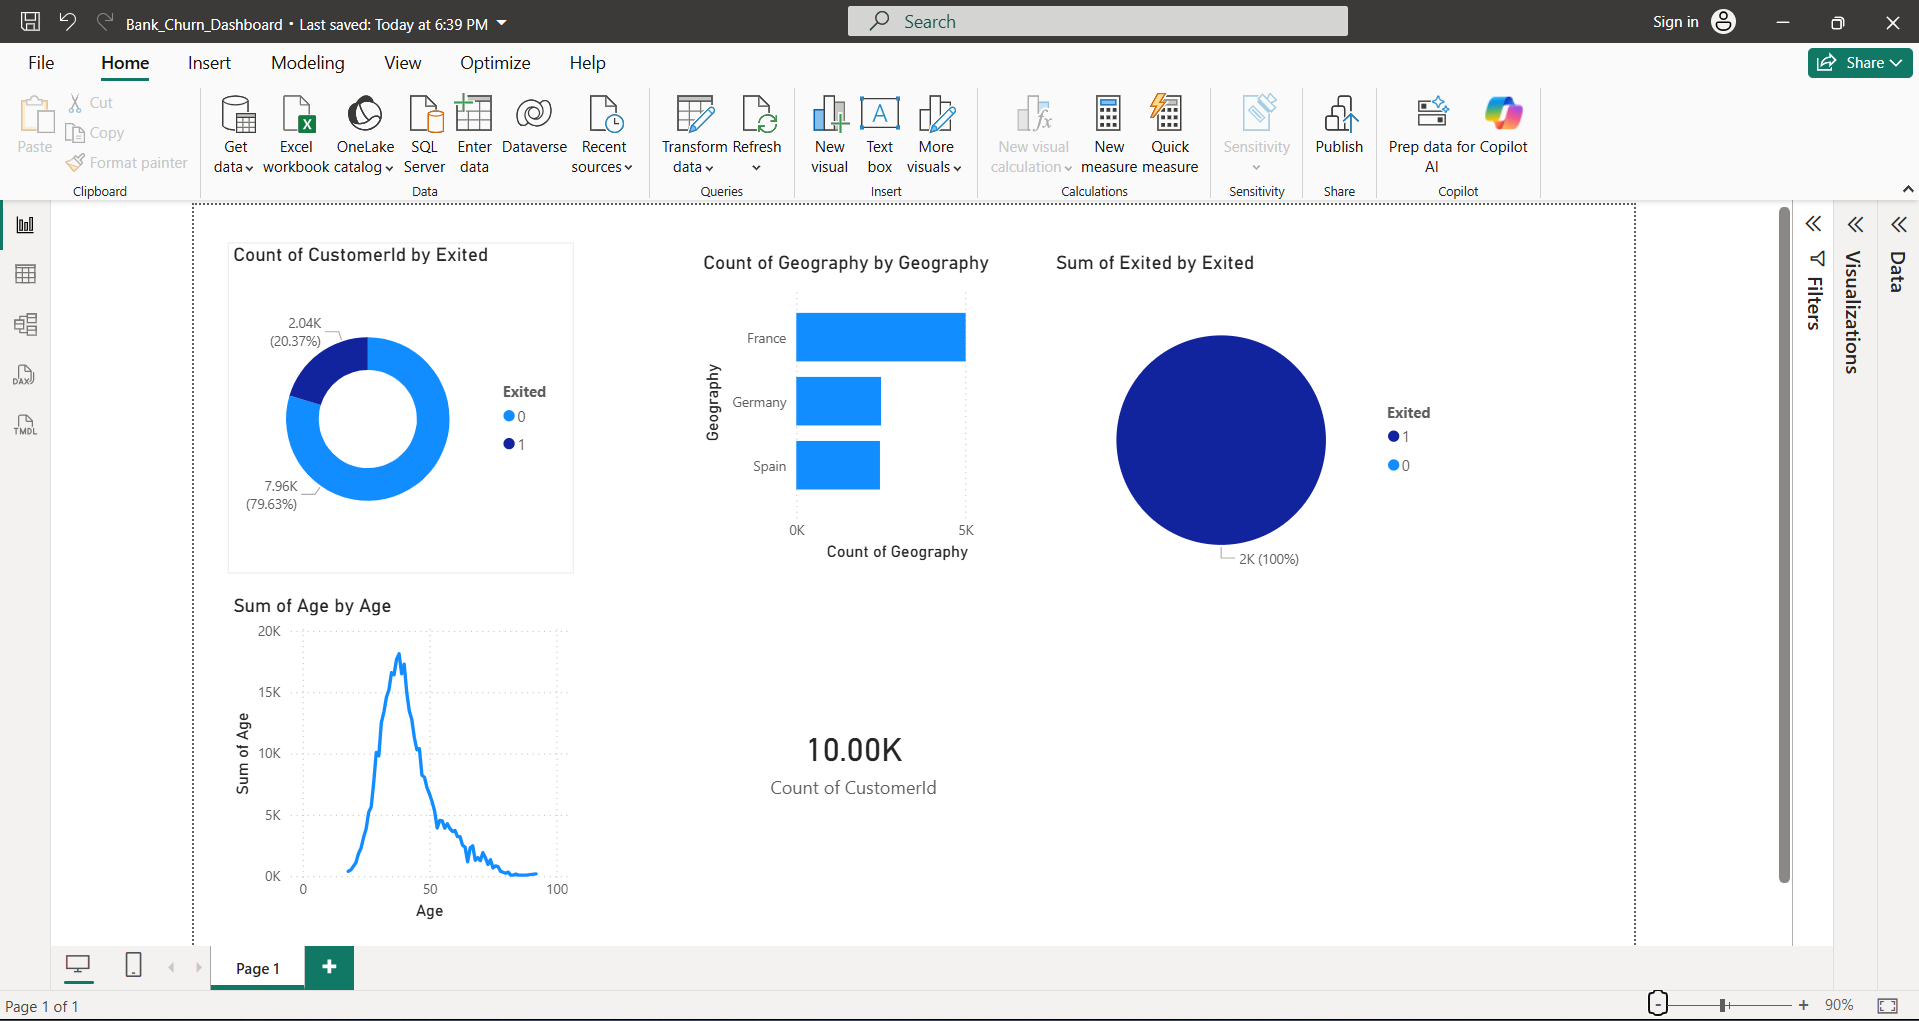

Layout of this report page (visuals, bound fields, positions):
{"tool":"powerbi","page":{"name":"Page 1","canvas":[1280,720],"ordinal":0},"visuals":[{"type":"barChart","fields":{"Category":["Churn_Modelling.Geography"],"Y":["CountNonNull(Churn_Modelling.Geography)"]},"box":[447.3,41.2,279.9,279.9],"z":0},{"type":"pieChart","fields":{"Category":["Churn_Modelling.Exited"],"Y":["Sum(Churn_Modelling.Exited)"]},"box":[761.6,41.2,362.3,317],"z":1000},{"type":"donutChart","fields":{"Category":["Churn_Modelling.Exited"],"Y":["CountNonNull(Churn_Modelling.CustomerId)"]},"box":[30.2,32.9,307.4,295],"z":2000},{"type":"lineChart","fields":{"Category":["Churn_Modelling.Age"],"Y":["Sum(Churn_Modelling.Age)"]},"box":[30.2,345.8,307.4,295],"z":2001},{"type":"card","fields":{"Values":["Count(Churn_Modelling.CustomerId)"]},"box":[447,346,280,295],"z":2002}]}

Visuals, with their boxes on the page's 1280x720 design canvas (x1, y1, x2, y2). These are canvas units, not pixel positions in the 1919x1021 screenshot, which may show the page scaled, cropped or inside an application window:
barChart - Churn_Modelling.Geography x CountNonNull(Churn_Modelling.Geography): locate(447, 41, 727, 321)
pieChart - Churn_Modelling.Exited x Sum(Churn_Modelling.Exited): locate(762, 41, 1124, 358)
donutChart - Churn_Modelling.Exited x CountNonNull(Churn_Modelling.CustomerId): locate(30, 33, 338, 328)
lineChart - Churn_Modelling.Age x Sum(Churn_Modelling.Age): locate(30, 346, 338, 641)
card - Count(Churn_Modelling.CustomerId): locate(447, 346, 727, 641)
